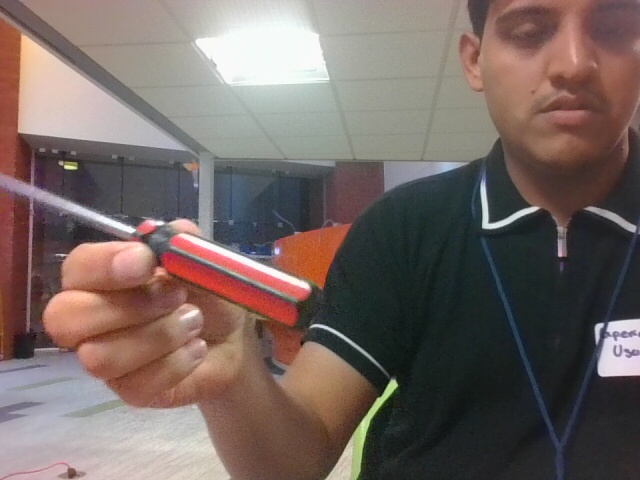destornillador: (1, 165, 317, 328)
